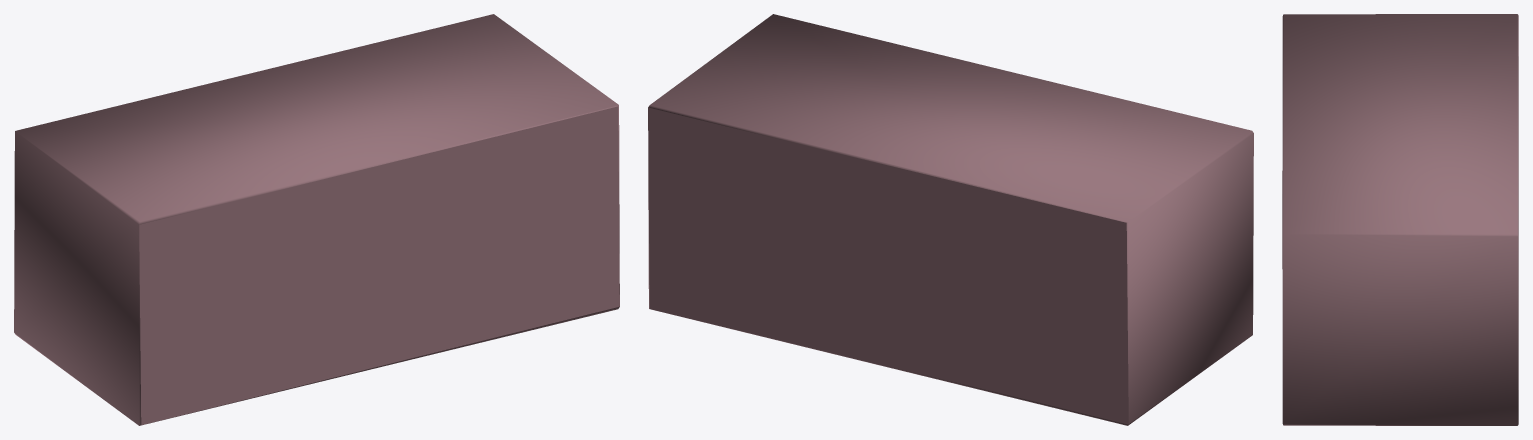
The model's file is SM_Schlachthof_Trough_LOD2.fbx.
3 renders of one model, left to right at view 1: azimuth 30°, elevation 25°; view 2: azimuth 150°, elevation 25°; view 3: azimuth 270°, elevation 25°, orthographic. The views are drawn at different scales.
Visible parts, largest first — view 1: SM_Schlachthof_Trough_LOD2; view 2: SM_Schlachthof_Trough_LOD2; view 3: SM_Schlachthof_Trough_LOD2.
Boxes of the visible parts, left/top/right/bottom form: SM_Schlachthof_Trough_LOD2: left=14, top=14, right=619, bottom=425; SM_Schlachthof_Trough_LOD2: left=648, top=14, right=1253, bottom=425; SM_Schlachthof_Trough_LOD2: left=1282, top=14, right=1518, bottom=425.
Size of the model in its own units: 2.19 by 0.8896 by 0.9915.
